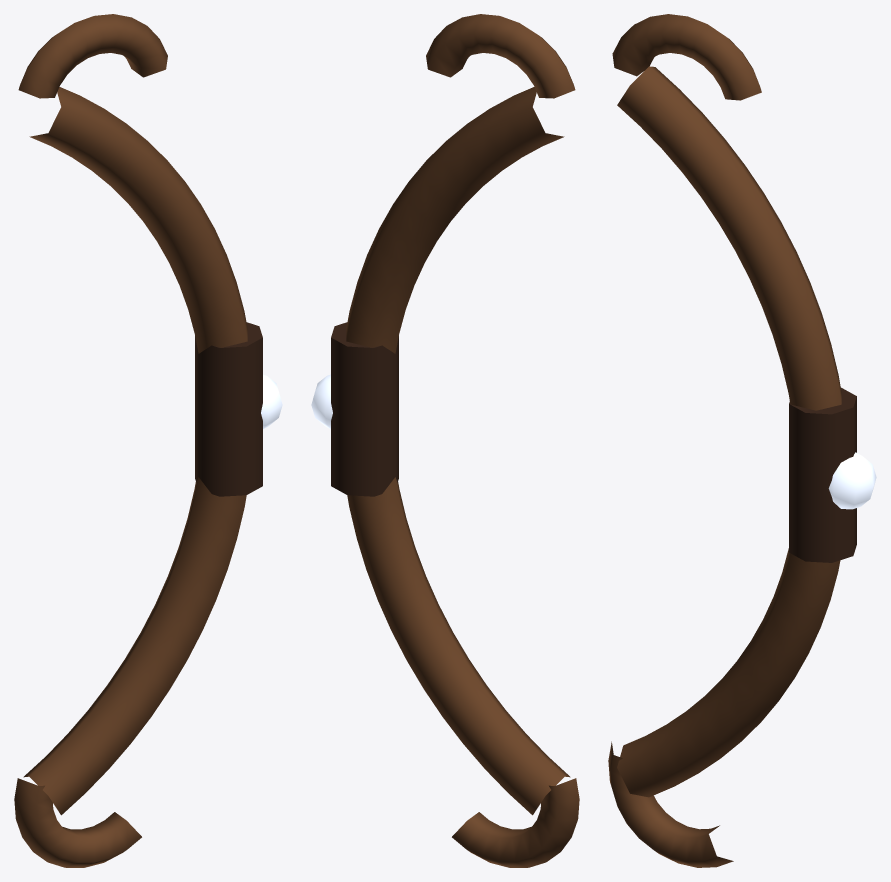
File: bow_f1_26ae3e43.glb
3 views of the same model, side by side, from view 1: azimuth 30°, elevation 25°; view 2: azimuth 150°, elevation 25°; view 3: azimuth 330°, elevation 25° (orthographic).
Visible parts, largest first — view 1: m2_ow80_, m0_ow80_, m1_; view 2: m2_ow80_, m0_ow80_, m1_; view 3: m2_ow80_, m0_ow80_, m1_.
Boxes of the visible parts, x1=… form: m2_ow80_: x1=14, y1=14, x2=247, y2=867; m0_ow80_: x1=195, y1=322, x2=262, y2=496; m1_: x1=261, y1=374, x2=282, y2=429; m2_ow80_: x1=346, y1=14, x2=579, y2=867; m0_ow80_: x1=331, y1=322, x2=398, y2=496; m1_: x1=311, y1=374, x2=332, y2=429; m2_ow80_: x1=608, y1=14, x2=841, y2=867; m0_ow80_: x1=789, y1=387, x2=856, y2=562; m1_: x1=828, y1=452, x2=876, y2=509.
Bounding box in the file's own units: 0.523 × 1.6 × 0.12.
